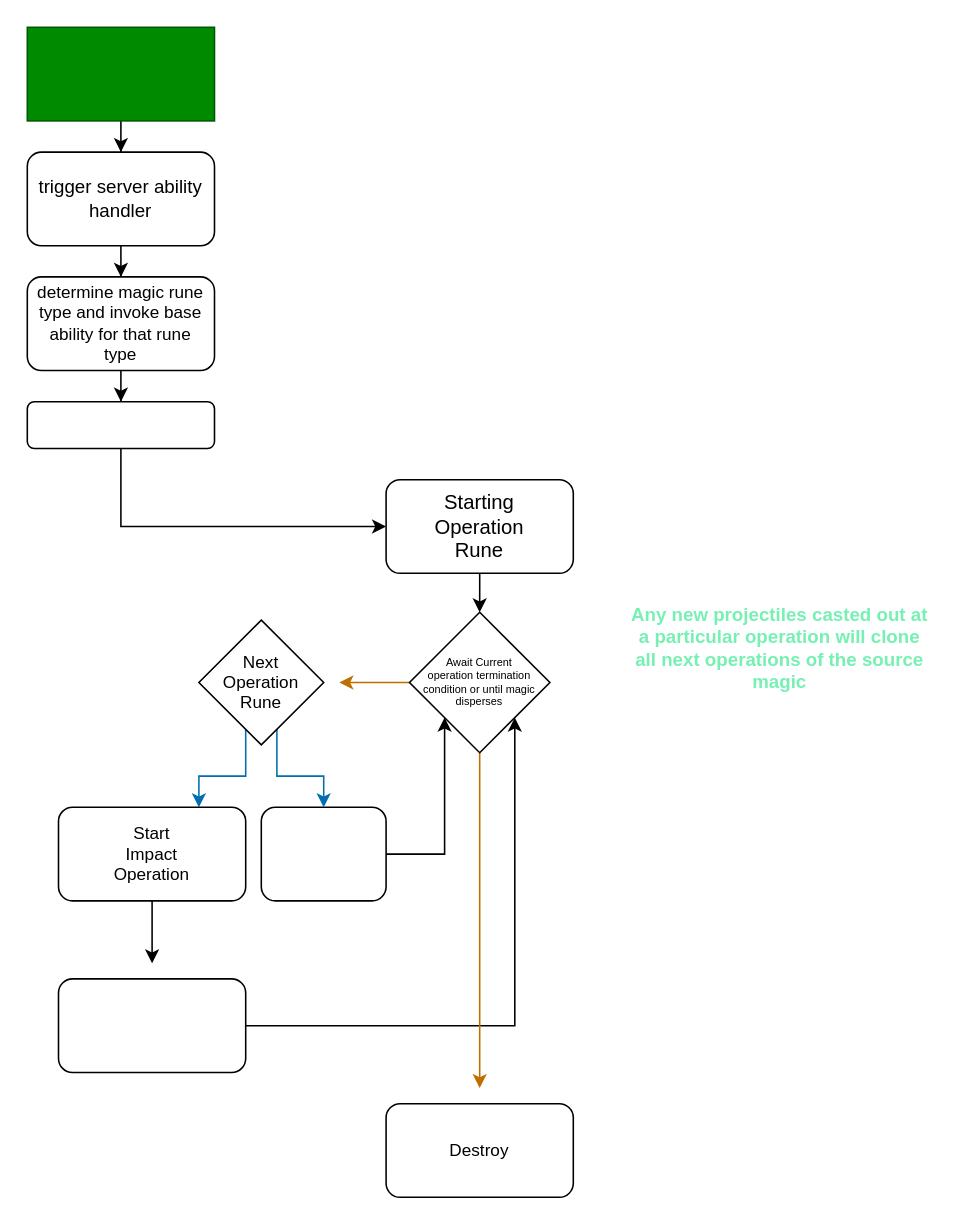
Image size: 967x1225. Some labels were removed from this diagram. Here are the shapes that lost their labels. From the top down, the centre of each, then its label:
(120,73): Keybind Trigger
(120,424): Cast Ability
(323,853): Start Travel Operation
(151,1024): Jump to and trigger next non-traversal rune operation
